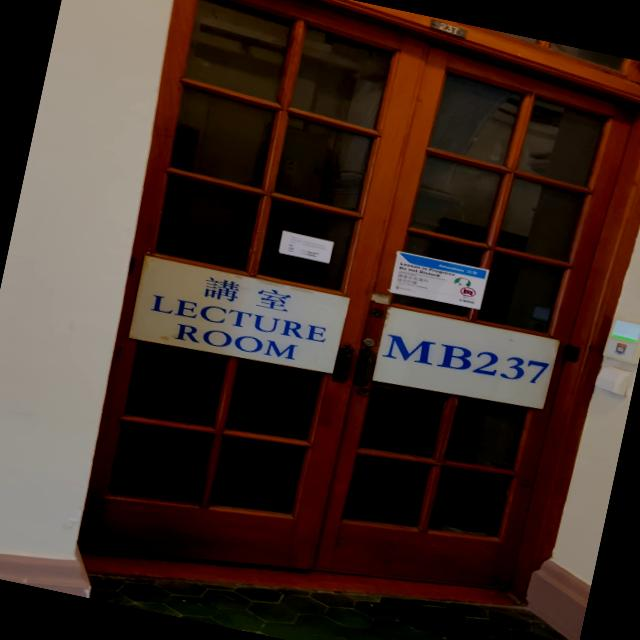room237Window: (370, 303, 560, 412)
